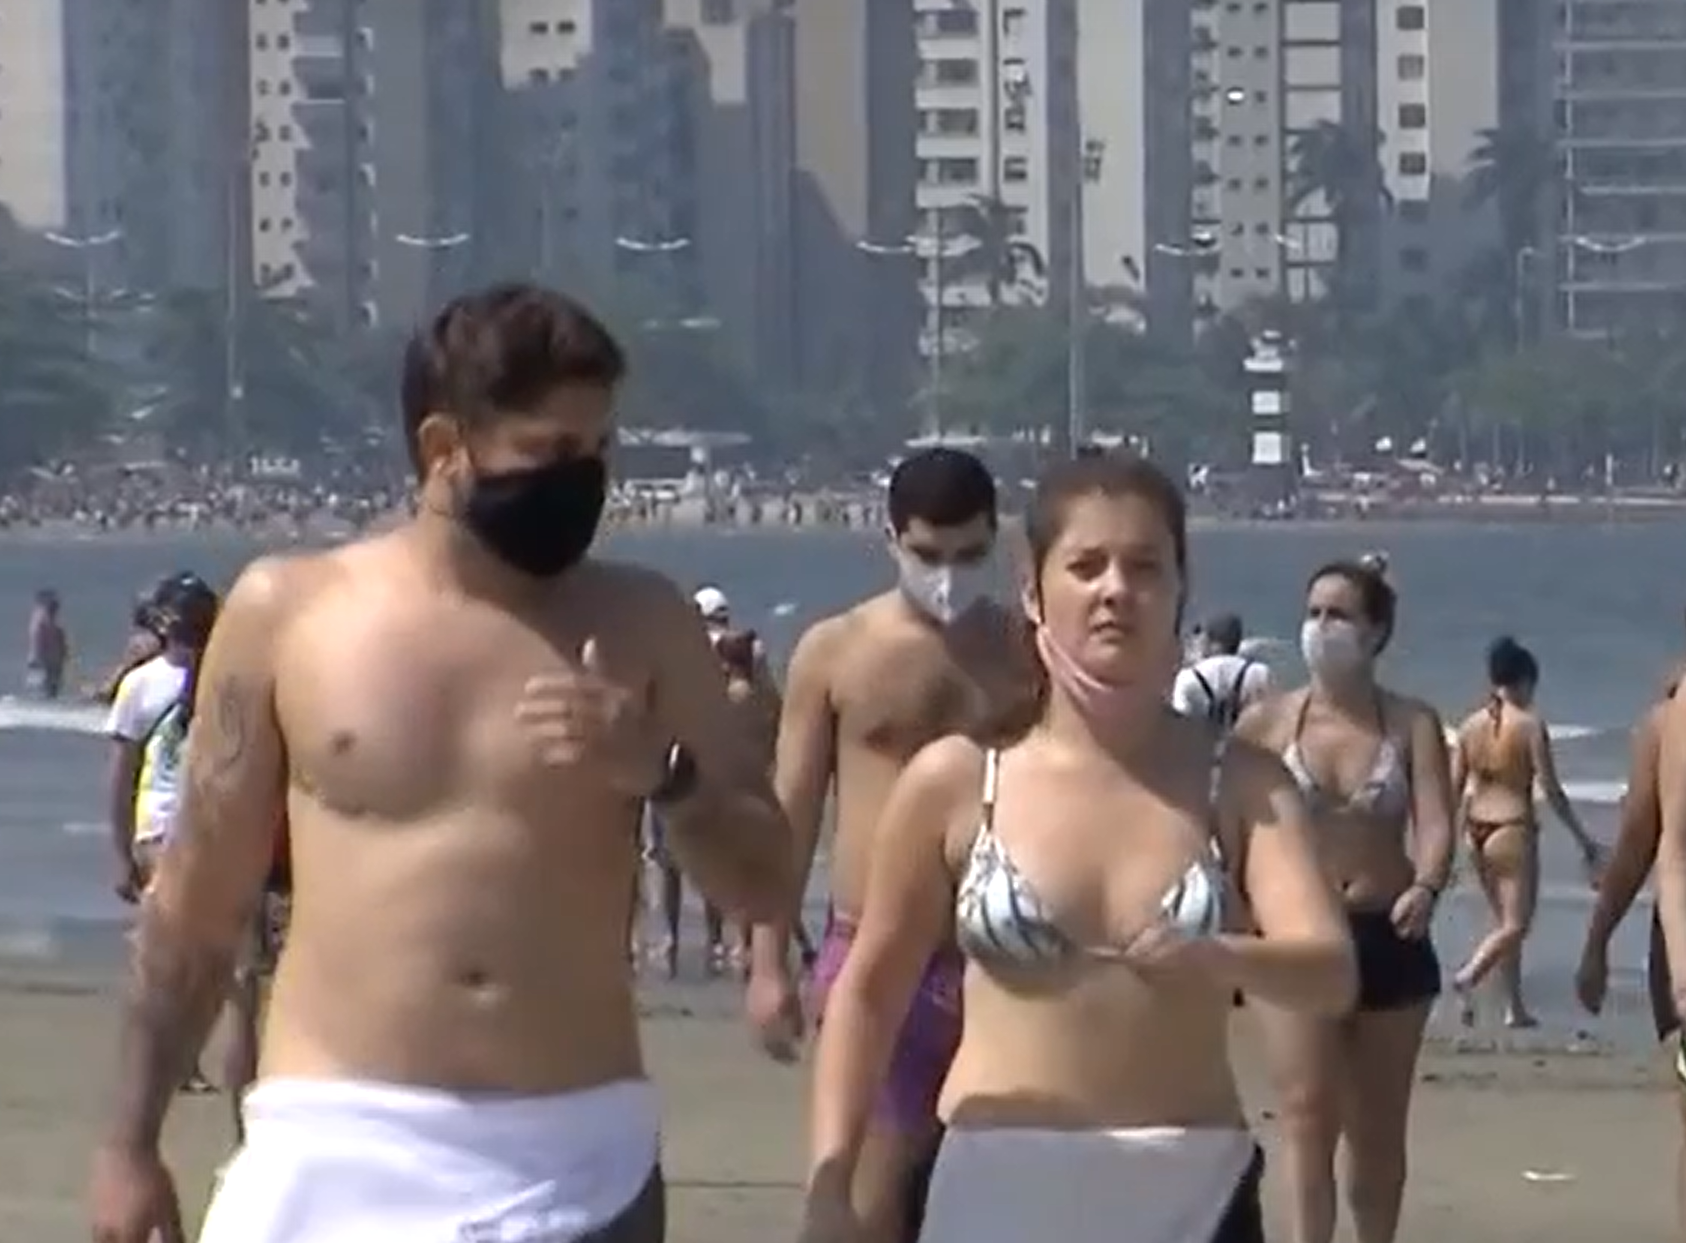mask_weared_incorrect: (1007, 521, 1221, 720)
with_mask: (371, 342, 641, 587)
